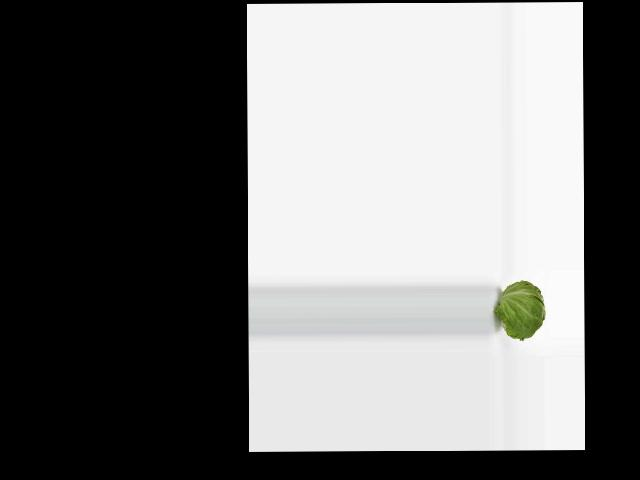lettuce: (501, 277, 546, 342)
